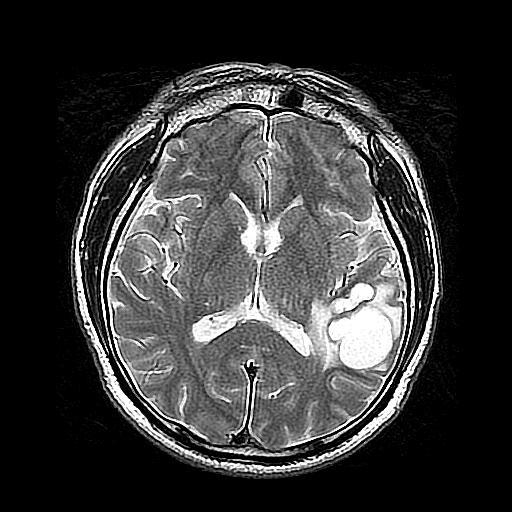Tumor: (319, 280, 410, 367)
